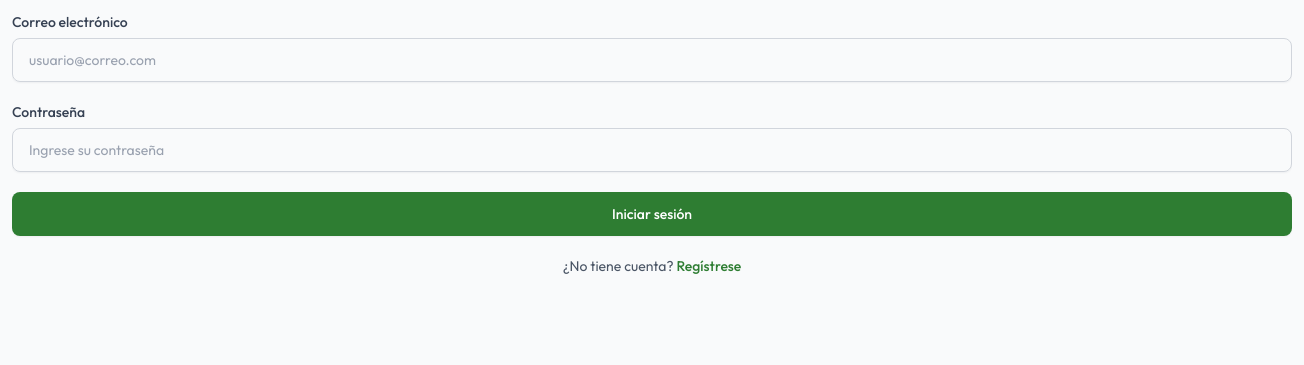
Test: LoginForm › RTL-02 credenciales incorrectas muestran un mensaje genérico (SWR-AUTH-002)
Type "comprador1@agrohuila.co" into the field labelled "Correo electrónico". click: (652, 60)
box: [12,38,1292,82]
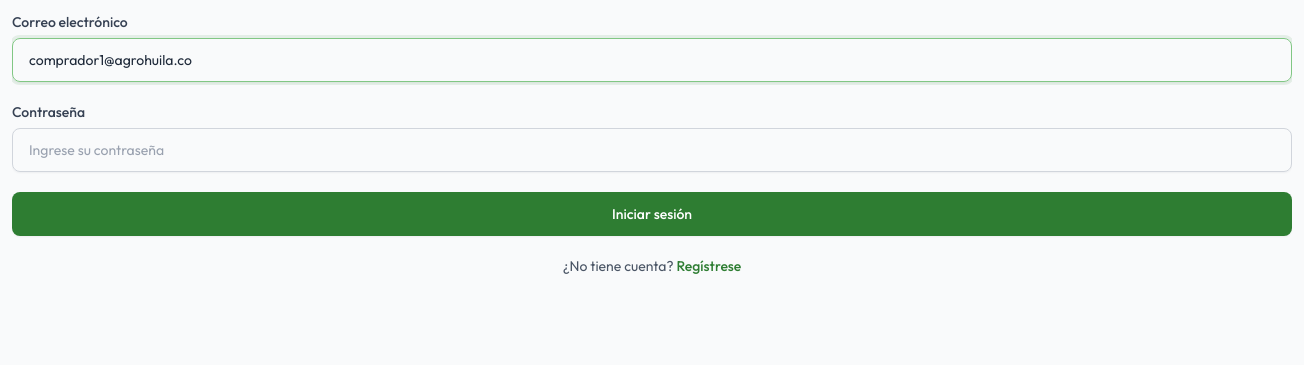
Type "ClaveMala1" into the password field labelled "Contraseña". click: (652, 150)
box: [12,128,1292,172]
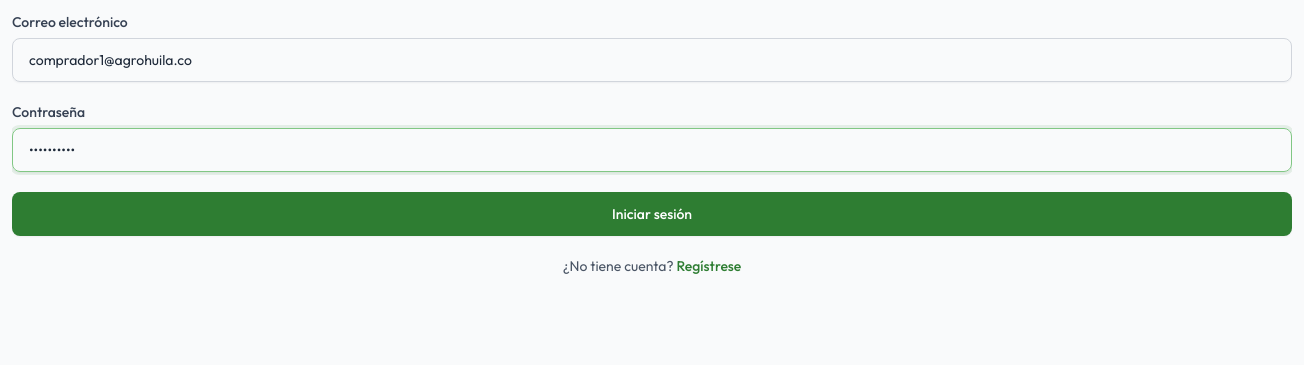
Click the button "Iniciar sesión". click: (652, 214)
box: [12,192,1292,236]
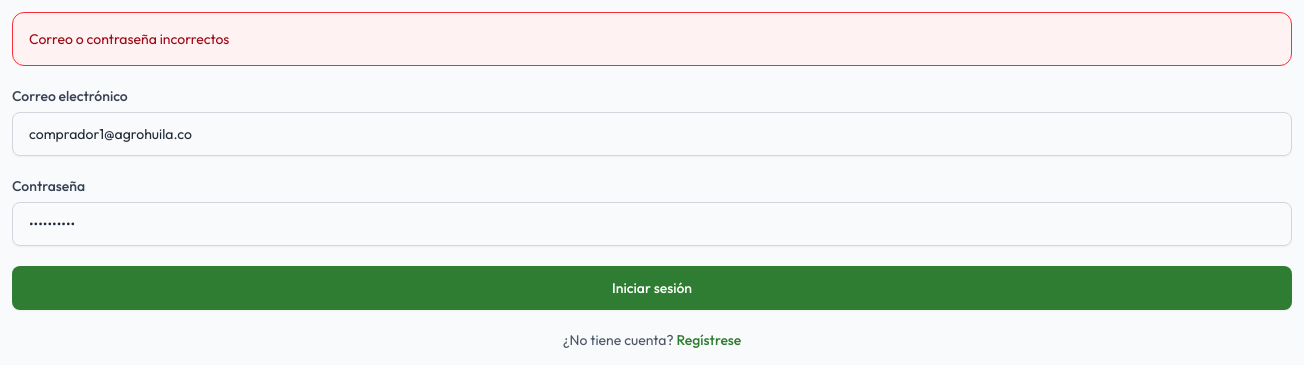
Check: the message reads "Correo o contraseña incorrectos", box [29,30,229,48]
